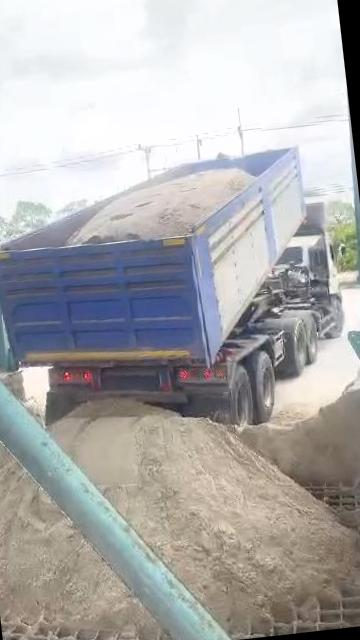sand: (53, 402, 359, 632), (0, 462, 154, 636), (68, 168, 253, 245), (238, 378, 360, 485), (0, 420, 11, 475)
